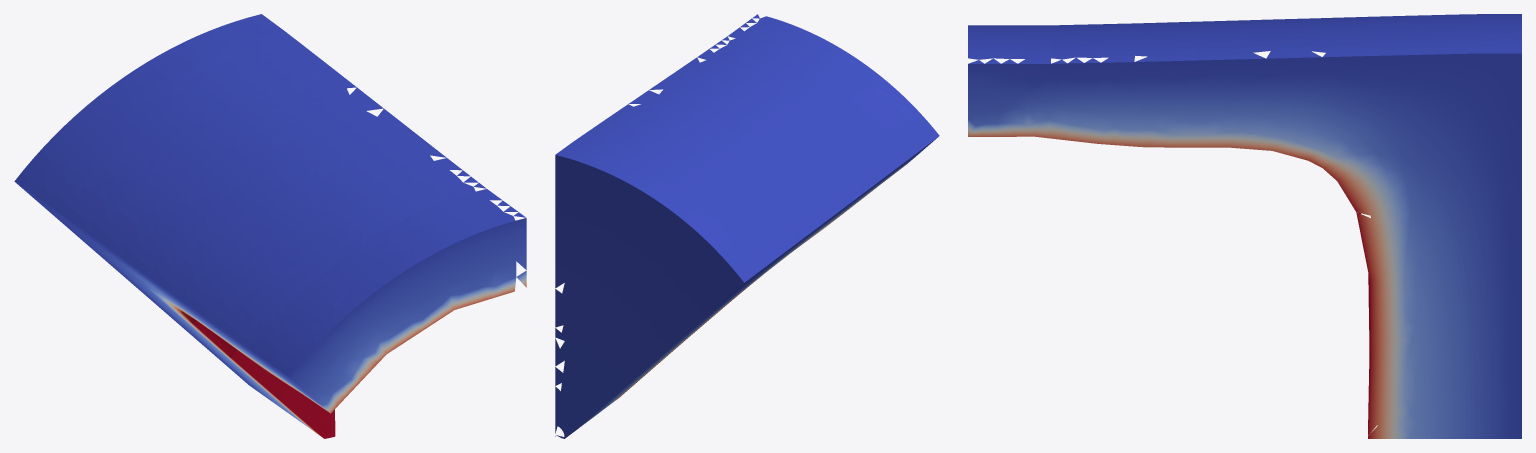
The model's file is eighth.glb.
3 renders of one model, left to right at view 1: azimuth 30°, elevation 25°; view 2: azimuth 150°, elevation 25°; view 3: azimuth 270°, elevation 25°, orthographic. The views are drawn at different scales.
Visible parts, largest first — view 1: Renderer Node; view 2: Renderer Node; view 3: Renderer Node.
Part boxes in pixels (x1,y1,x2,y2): Renderer Node: (14,14,526,438); Renderer Node: (555,14,939,438); Renderer Node: (968,14,1521,438).
Bounding box in the file's own units: 4.4 × 6.27 × 8.17.
1 material, 1 textured.
